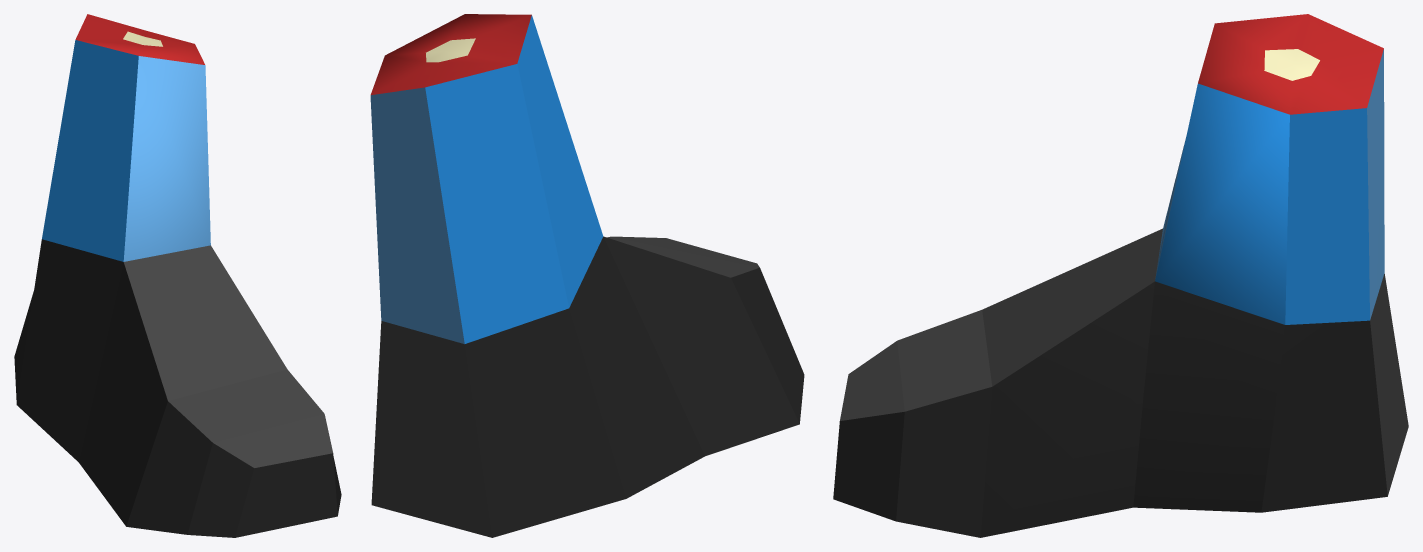
File: RFOOT.fbx
The picture shows the model from 3 angles, left to right: view 1: azimuth 30°, elevation 25°; view 2: azimuth 150°, elevation 25°; view 3: azimuth 270°, elevation 25°; orthographic projection. The views are drawn at different scales.
Visible parts, largest first — view 1: Cube; view 2: Cube; view 3: Cube.
Part boxes in pixels (left/top/right/bottom): Cube: left=14, top=14, right=341, bottom=537; Cube: left=370, top=14, right=804, bottom=537; Cube: left=833, top=14, right=1408, bottom=537.
Bounding box in the file's own units: 49.77 × 89.15 × 100.
